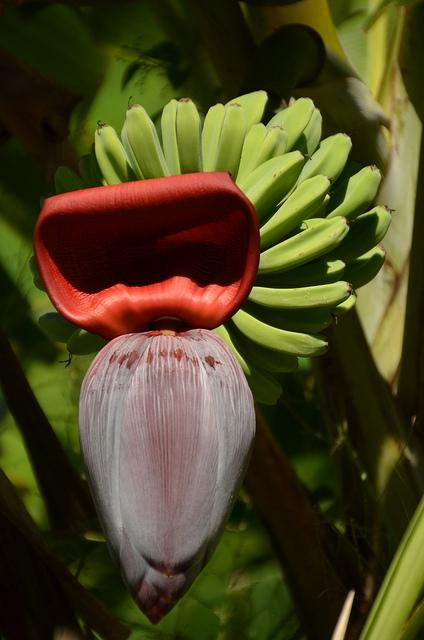banana: (210, 323, 284, 405), (258, 174, 334, 249), (257, 216, 355, 274), (238, 150, 313, 225), (231, 308, 330, 358), (320, 204, 396, 264), (226, 318, 298, 372), (126, 96, 170, 180), (296, 132, 358, 189), (247, 280, 354, 312), (324, 164, 381, 222), (241, 300, 338, 334), (95, 120, 138, 186), (266, 97, 315, 153), (214, 102, 246, 183), (254, 258, 346, 286), (224, 90, 268, 142), (176, 98, 204, 174), (340, 244, 386, 290), (234, 123, 267, 186), (288, 107, 322, 166), (201, 103, 227, 172), (250, 125, 287, 173), (161, 98, 183, 176), (120, 118, 144, 180), (38, 312, 79, 343), (66, 328, 110, 356), (329, 159, 363, 193), (54, 166, 89, 195), (328, 290, 358, 318), (90, 143, 108, 187), (302, 194, 330, 221), (78, 154, 94, 188), (296, 218, 330, 230), (34, 270, 46, 292), (29, 255, 38, 277)
